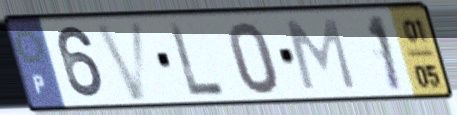0: (224, 16, 283, 97)
1: (362, 12, 409, 94)
6: (55, 23, 106, 101)
L: (165, 20, 228, 100)
M: (282, 15, 360, 92)
V: (91, 18, 151, 104)
